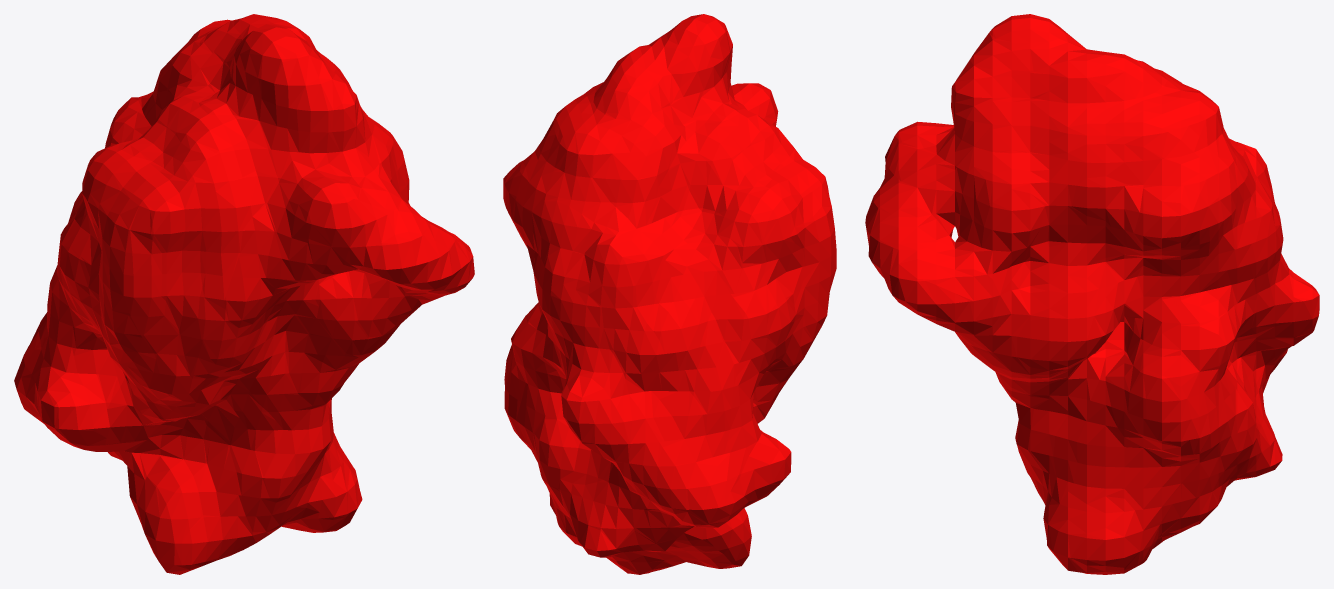
The model's file is yegQ_coarse.dae.
3 renders of one model, left to right at view 1: azimuth 30°, elevation 25°; view 2: azimuth 150°, elevation 25°; view 3: azimuth 270°, elevation 25°, orthographic. The views are drawn at different scales.
Visible parts, largest first — view 1: yegQ; view 2: yegQ; view 3: yegQ.
Boxes of the visible parts, box(x1,y1,x2,y2) form: yegQ: box(14, 14, 474, 574); yegQ: box(503, 14, 836, 574); yegQ: box(865, 14, 1319, 574).
Size of the model in its own units: 48.75 by 85.27 by 65.54.
